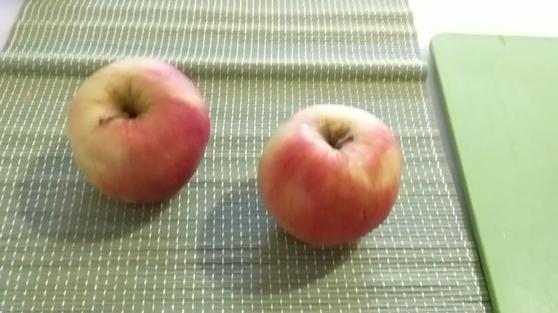apple: (62, 47, 212, 214), (263, 101, 402, 247)
